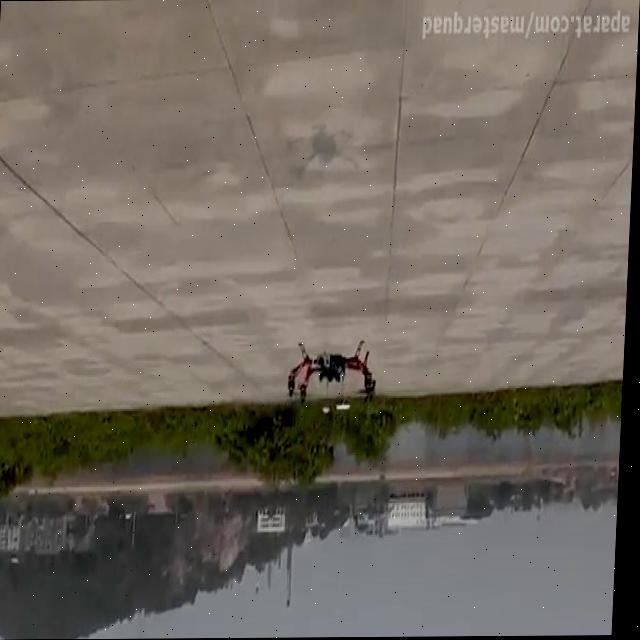drone: (287, 335, 383, 417)
